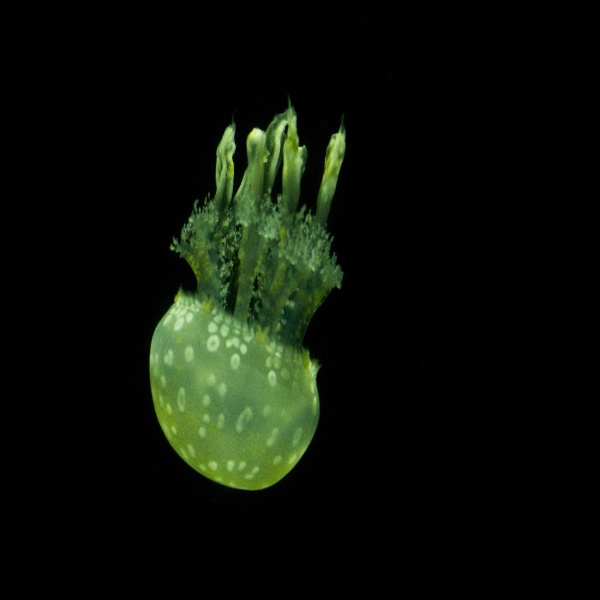Jellyfish: (148, 86, 343, 489)
